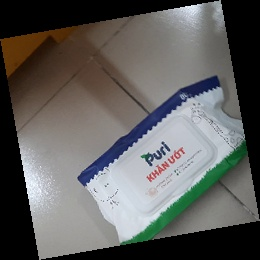Puri Trang: (78, 72, 252, 249)
